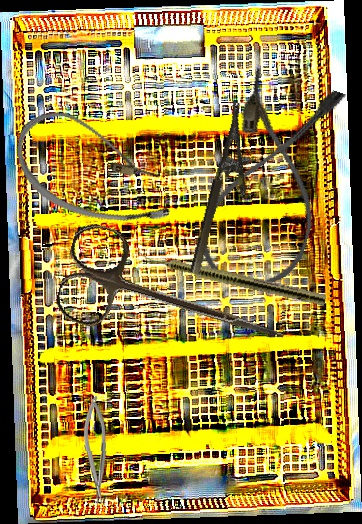Cannula: (192, 66, 352, 299), (2, 101, 189, 241)
Handpiece: (132, 248, 328, 307)
Iris Scissors: (51, 219, 299, 379)
Needle Holder: (187, 101, 269, 281), (83, 396, 108, 506)
